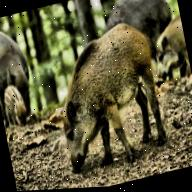boar: (37, 19, 180, 181)
